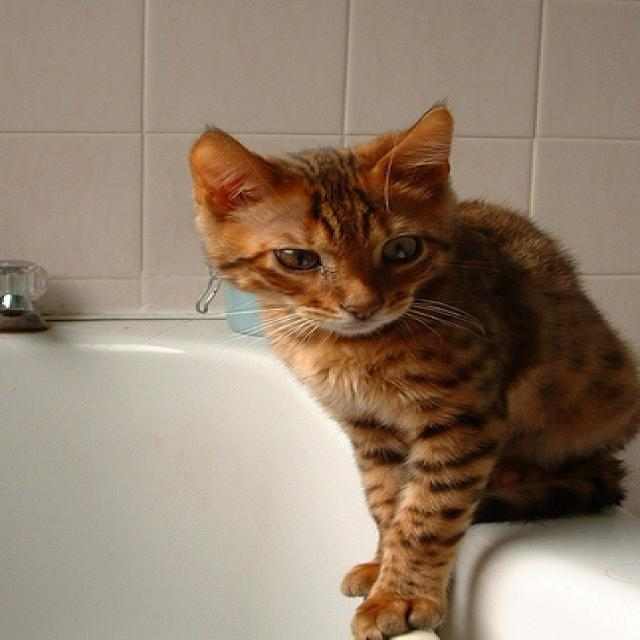Bengal: (176, 89, 639, 640)
